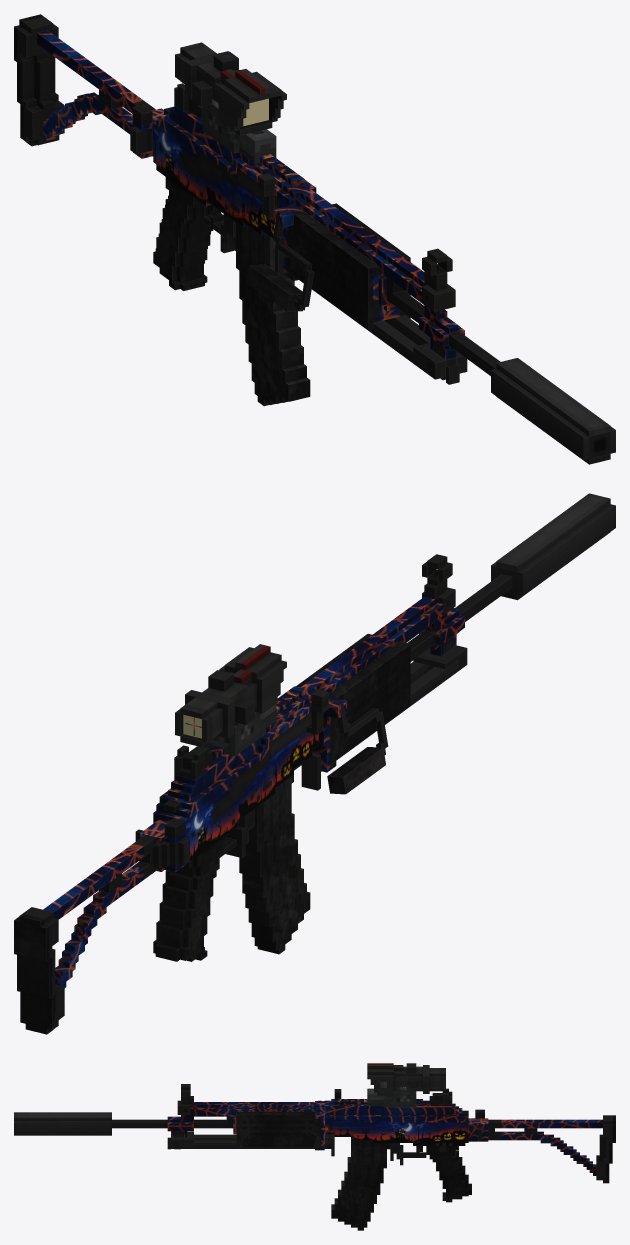
The model's file is RD_GALIL_SCARY.glb.
The picture shows the model from 3 angles, top to bottom: view 1: azimuth 30°, elevation 25°; view 2: azimuth 150°, elevation 25°; view 3: azimuth 270°, elevation 25°; orthographic projection. The views are drawn at different scales.
Visible parts, largest first — view 1: GALIL, GALIL_CLIP, SCOPE_ACOG, SILENCER_6X6, GALIL_GRIP, SCOPE_EOTECH, GALIL_SCOPE, GALIL_DIPOD_LEG1, GALIL_DIPOD_P2, GALIL_DIPOD_LEG2, GALIL_BOLT; view 2: GALIL, GALIL_CLIP, SCOPE_ACOG, SILENCER_6X6, GALIL_GRIP, GALIL_SCOPE, GALIL_DIPOD_LEG1, SCOPE_EOTECH, GALIL_DIPOD_P2; view 3: GALIL, GALIL_CLIP, SILENCER_6X6, SCOPE_ACOG, SCOPE_EOTECH, GALIL_DIPOD_LEG2, GALIL_SCOPE, GALIL_DIPOD_LEG1, GALIL_DIPOD_P2.
Part boxes in pixels (box(x1,y1,x2,y2)): GALIL: box(14, 14, 500, 375); GALIL_CLIP: box(236, 223, 310, 406); SCOPE_ACOG: box(175, 42, 286, 163); SILENCER_6X6: box(491, 358, 615, 464); GALIL_GRIP: box(247, 210, 314, 311); SCOPE_EOTECH: box(203, 99, 276, 157); GALIL_SCOPE: box(174, 83, 452, 291); GALIL_DIPOD_LEG1: box(275, 245, 425, 366); GALIL_DIPOD_P2: box(413, 343, 467, 379); GALIL_DIPOD_LEG2: box(384, 315, 430, 345); GALIL_BOLT: box(258, 173, 277, 218); GALIL: box(14, 574, 512, 1034); GALIL_CLIP: box(239, 777, 310, 954); SCOPE_ACOG: box(175, 644, 286, 747); SILENCER_6X6: box(491, 493, 615, 600); GALIL_GRIP: box(327, 701, 388, 794); GALIL_SCOPE: box(174, 554, 452, 779); GALIL_DIPOD_LEG1: box(301, 660, 457, 790); SCOPE_EOTECH: box(203, 703, 276, 755); GALIL_DIPOD_P2: box(413, 645, 467, 680); GALIL: box(112, 1099, 615, 1202); GALIL_CLIP: box(331, 1137, 390, 1230); SILENCER_6X6: box(14, 1112, 111, 1135); SCOPE_ACOG: box(367, 1063, 445, 1105); SCOPE_EOTECH: box(367, 1086, 416, 1107); GALIL_DIPOD_LEG2: box(181, 1134, 334, 1156); GALIL_SCOPE: box(181, 1084, 452, 1105); GALIL_DIPOD_LEG1: box(194, 1134, 334, 1140); GALIL_DIPOD_P2: box(171, 1131, 193, 1148).
Size of the model in its own units: 0.1302 by 0.5412 by 1.81.
Materials: 8 (8 with a texture image).
